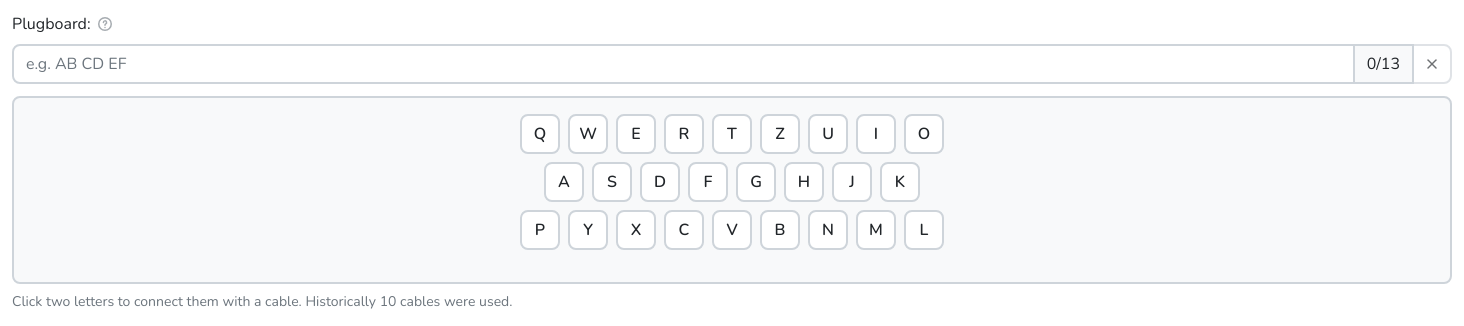
it: Plugboard text control › updates the store live while typing and normalises on blur
Type "ab-cd,e" into the field labelled "Plugboard:".
click(683, 64); type("ab-cd,e")  # box [12,44,1355,84]
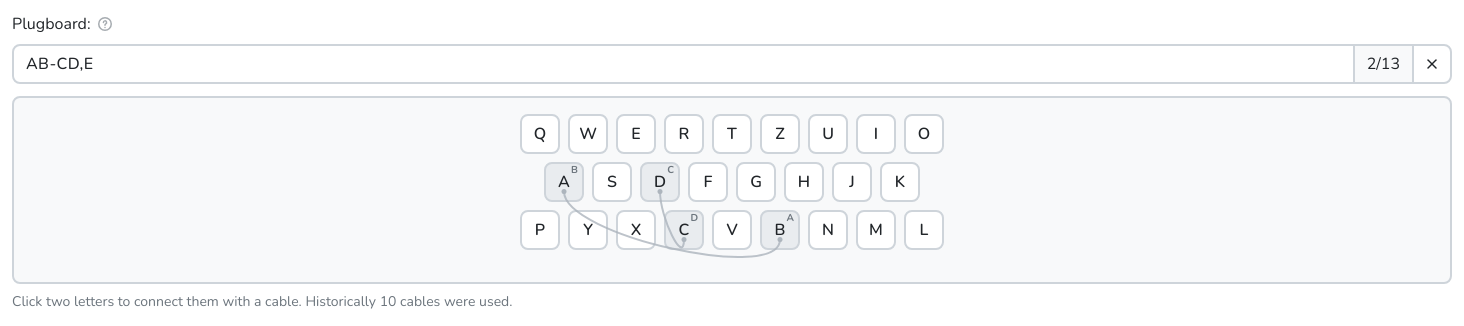
Check: the text "2/13" is shown, box [1367,52,1400,76]
Type "f" into the field labelled "Plugboard:".
click(683, 64); type("f")  # box [12,44,1355,84]
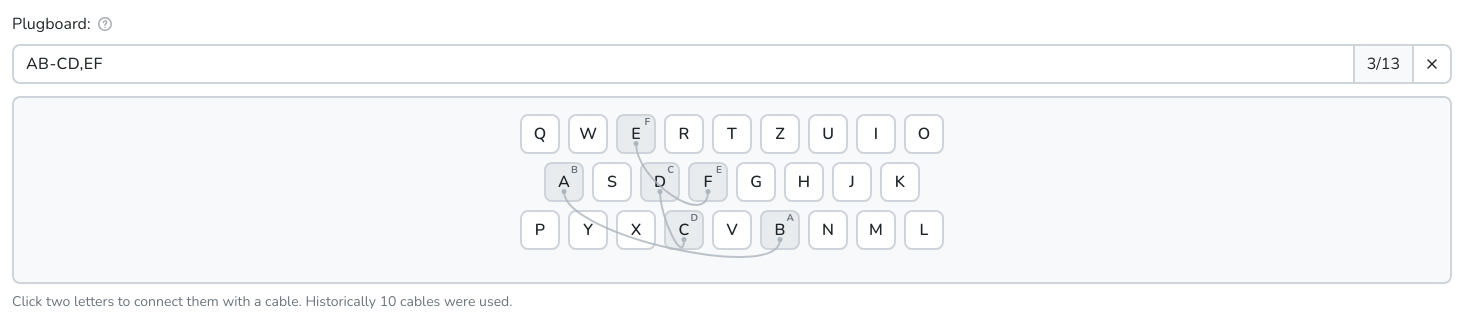
Press Tab
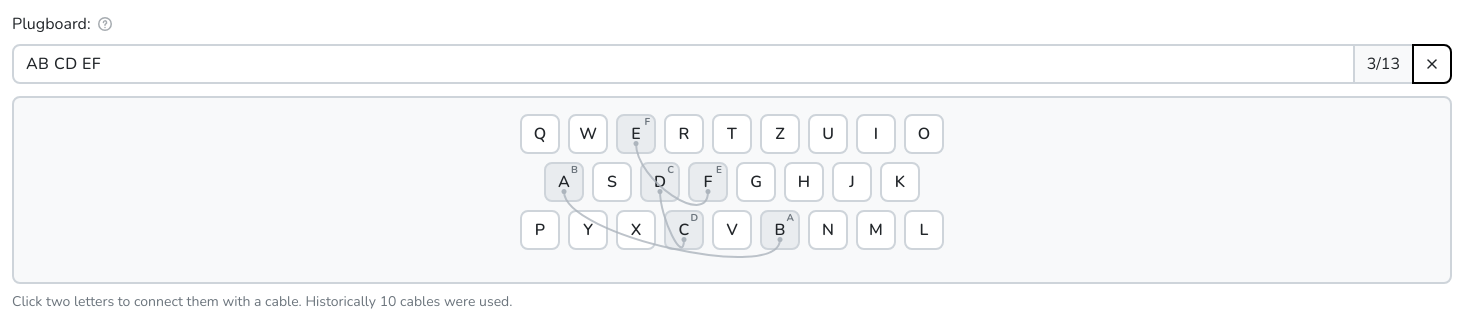
Check: the field labelled "Plugboard:" holds "AB CD EF", box [12,44,1355,84]
